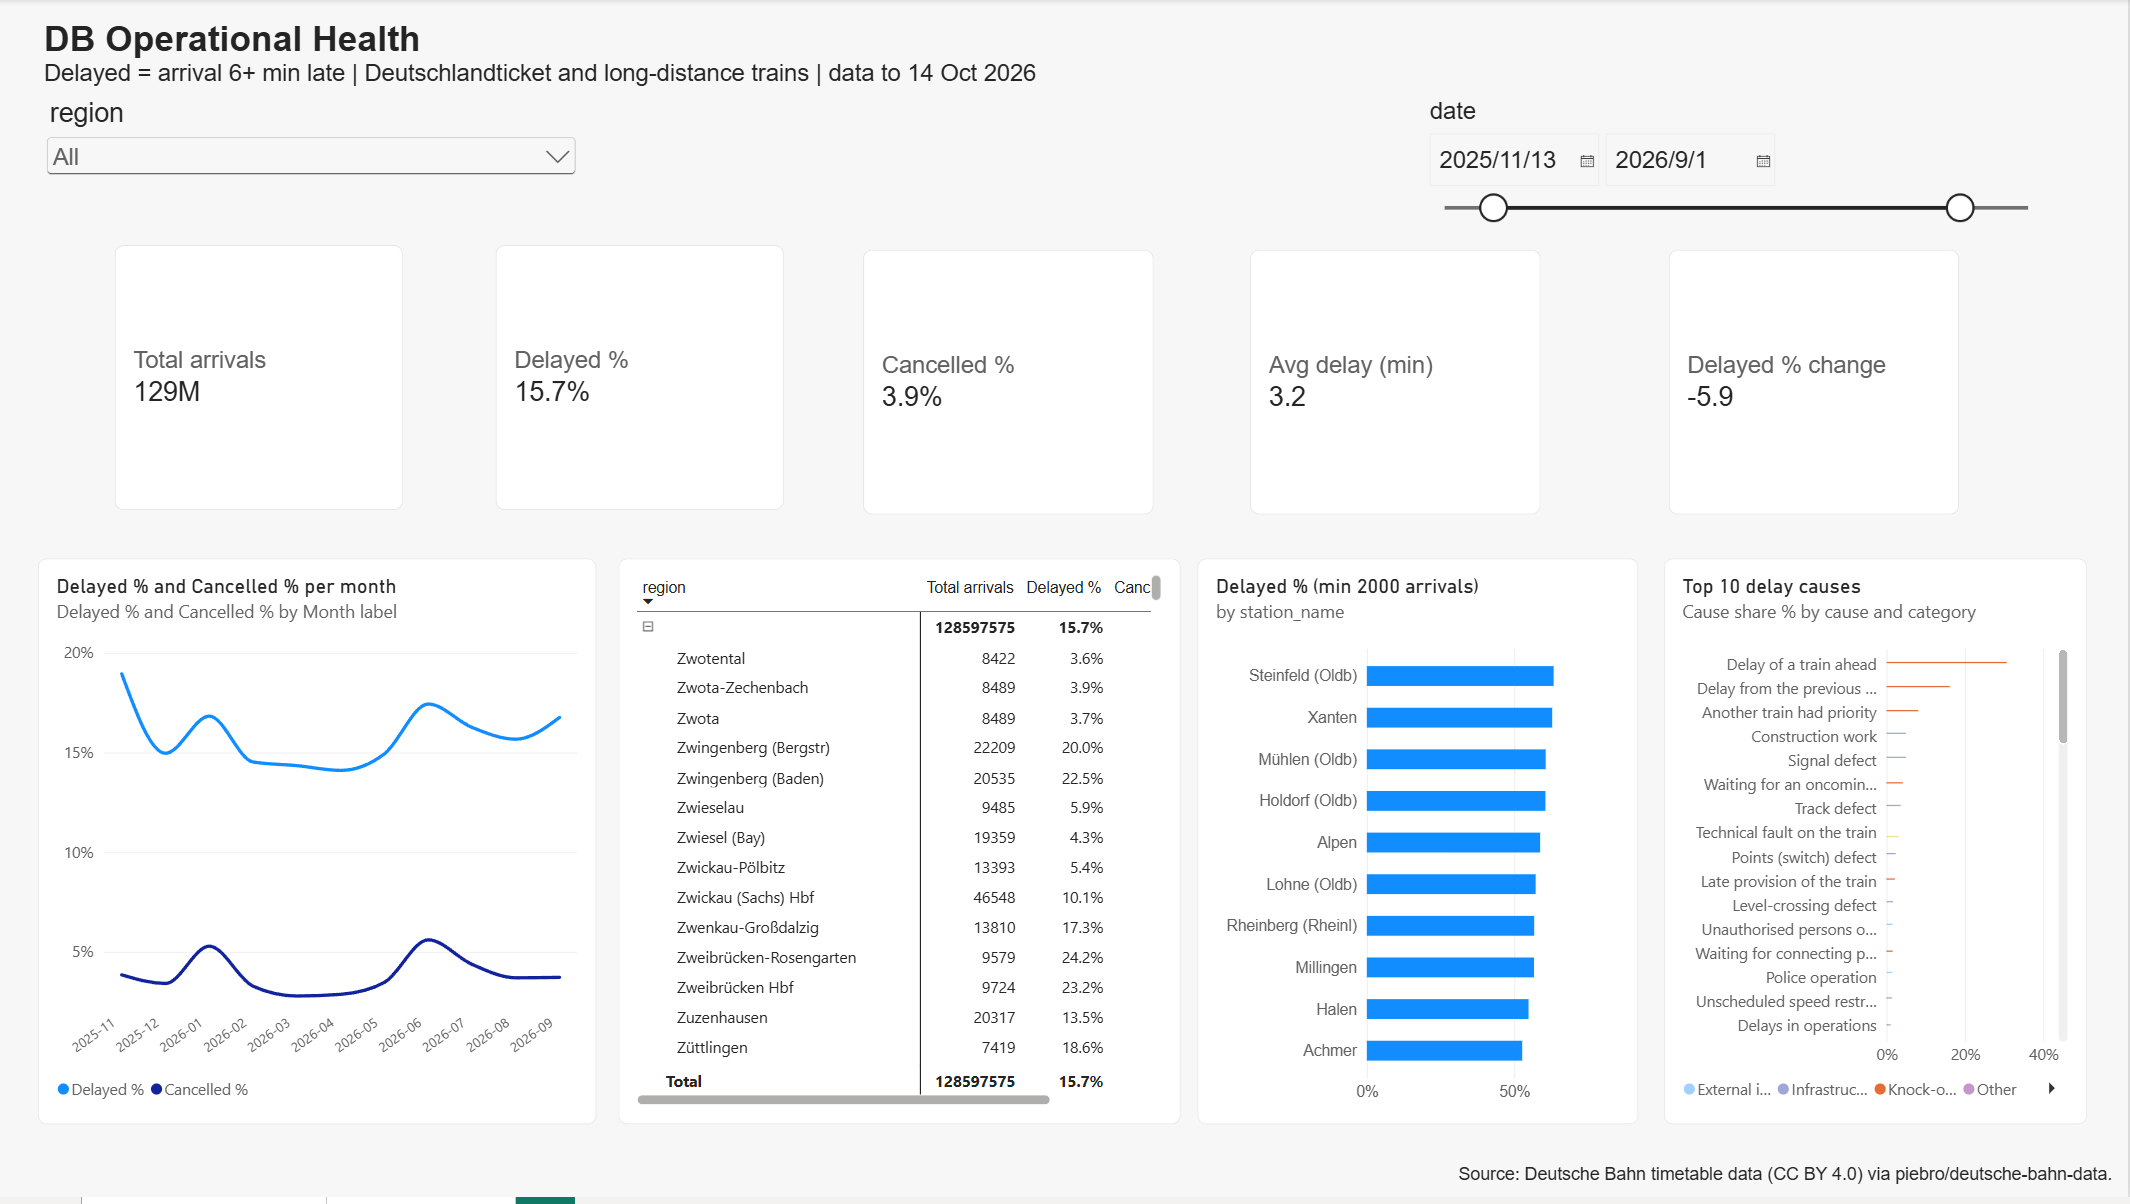

Layout of this report page (visuals, bound fields, positions):
{"tool":"powerbi","page":{"name":"DB Operational Health","canvas":[1920,1080],"ordinal":0},"visuals":[{"type":"slicer","fields":{"Values":["dim_station.region"]},"box":[37.7,89,487.1,88.6],"z":0},{"type":"slicer","fields":{"Values":["dim_date.date"]},"box":[1282,89.6,565.7,144.8],"z":1000},{"type":"cardVisual","fields":{"Data":["_Measures.Total arrivals"]},"box":[104.6,221.3,261,239.9],"z":2000},{"type":"cardVisual","fields":{"Data":["_Measures.Delayed %"]},"box":[447.1,221.3,261,239.9],"z":3000},{"type":"cardVisual","fields":{"Data":["_Measures.Cancelled %"]},"box":[779,225.8,262.5,239.9],"z":4000},{"type":"cardVisual","fields":{"Data":["_Measures.Avg delay (min, capped)"]},"box":[1127.5,225.8,262.5,239.9],"z":5000},{"type":"cardVisual","fields":{"Data":["_Measures.Delayed % change (points)"]},"box":[1504.6,225.8,262.5,239.9],"z":6000},{"type":"lineChart","title":"Delayed % and Cancelled % per month","fields":{"Category":["dim_date.Month label"],"Y":["_Measures.Delayed %","_Measures.Cancelled %"]},"box":[35.3,503.9,503.4,509.9],"z":7000},{"type":"pivotTable","fields":{"Rows":["dim_station.region","dim_station.station_name"],"Values":["_Measures.Total arrivals","_Measures.Delayed %","_Measures.Cancelled %"]},"box":[558.2,503.9,506.6,509.9],"z":8000},{"type":"clusteredBarChart","fields":{"Category":["dim_station.station_name"],"Y":["_Measures.Delayed % (min 2000 arrivals)"]},"box":[1081.1,503.9,397.5,509.9],"z":9000},{"type":"textbox","box":[40.7,17.9,918.7,71.7],"z":9001},{"type":"textbox","box":[1315.7,1050,604.3,30],"z":9002},{"type":"clusteredBarChart","title":"Top 10 delay causes","fields":{"Category":["dim_cause.cause"],"Series":["dim_cause.category"],"Y":["_Measures.Cause share %"]},"box":[1501.4,503.9,381.2,509.9],"z":9003}]}

Visuals, with their boxes in screenshot pixels (x1, y1, x2, y2), scaled from the page's 1920x1080 canvas onto the 2130x1204 screenshot:
slicer - dim_station.region: bbox=(42, 99, 582, 198)
slicer - dim_date.date: bbox=(1422, 100, 2050, 261)
cardVisual - _Measures.Total arrivals: bbox=(116, 247, 406, 514)
cardVisual - _Measures.Delayed %: bbox=(496, 247, 786, 514)
cardVisual - _Measures.Cancelled %: bbox=(864, 252, 1155, 519)
cardVisual - _Measures.Avg delay (min, capped): bbox=(1251, 252, 1542, 519)
cardVisual - _Measures.Delayed % change (points): bbox=(1669, 252, 1960, 519)
"Delayed % and Cancelled % per month" lineChart: bbox=(39, 562, 598, 1130)
pivotTable - dim_station.region x dim_station.station_name: bbox=(619, 562, 1181, 1130)
clusteredBarChart - dim_station.station_name x _Measures.Delayed % (min 2000 arrivals): bbox=(1199, 562, 1640, 1130)
textbox: bbox=(45, 20, 1064, 100)
textbox: bbox=(1460, 1171, 2129, 1203)
"Top 10 delay causes" clusteredBarChart: bbox=(1666, 562, 2089, 1130)
